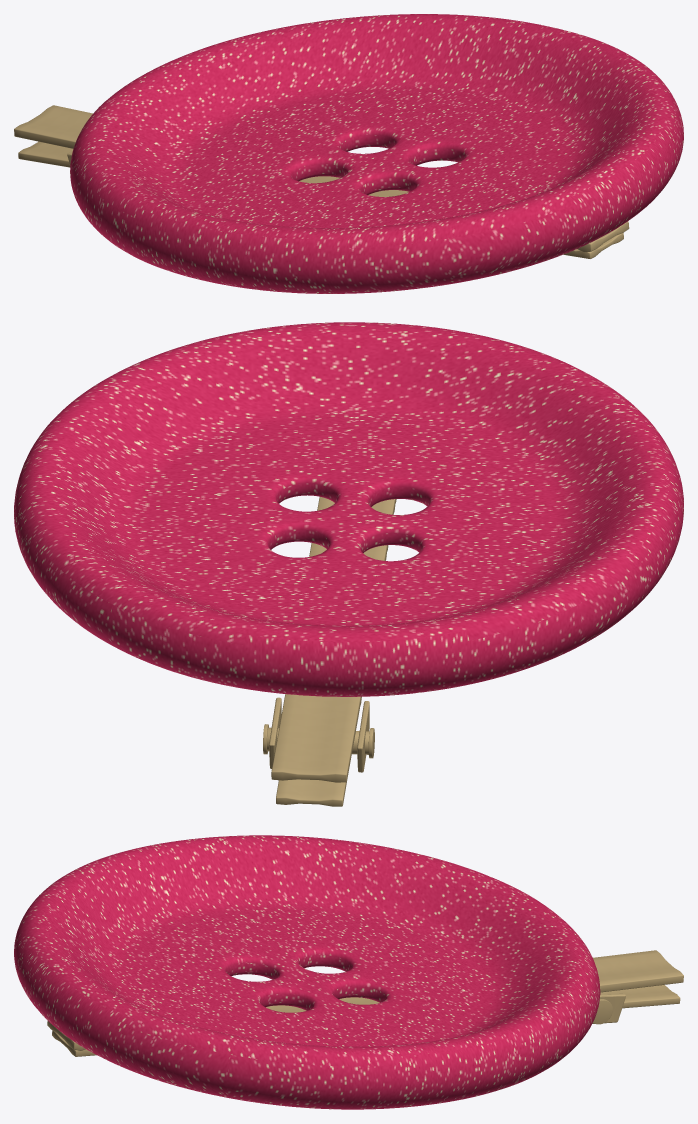
The model's file is HairClip_Glitter.glb.
3 renders of one model, top to bottom at view 1: azimuth 30°, elevation 25°; view 2: azimuth 150°, elevation 25°; view 3: azimuth 270°, elevation 25°, orthographic. The views are drawn at different scales.
Parts seen in each view (by area): view 1: HairClip_Glitter__Pink_Four_Hole_Button, HairClip_Glitter__Fixed_Serrated_Jaw, HairClip_Glitter__Moving_Jaw_Static_Pose; view 2: HairClip_Glitter__Pink_Four_Hole_Button, HairClip_Glitter__Fixed_Serrated_Jaw, HairClip_Glitter__Moving_Jaw_Static_Pose; view 3: HairClip_Glitter__Pink_Four_Hole_Button, HairClip_Glitter__Fixed_Serrated_Jaw, HairClip_Glitter__Moving_Jaw_Static_Pose.
Part boxes in pixels (x1,y1,x2,y2): HairClip_Glitter__Pink_Four_Hole_Button: (70,14,683,293); HairClip_Glitter__Fixed_Serrated_Jaw: (14,105,629,252); HairClip_Glitter__Moving_Jaw_Static_Pose: (18,141,623,258); HairClip_Glitter__Pink_Four_Hole_Button: (14,322,683,696); HairClip_Glitter__Fixed_Serrated_Jaw: (271,497,396,782); HairClip_Glitter__Moving_Jaw_Static_Pose: (276,779,346,806); HairClip_Glitter__Pink_Four_Hole_Button: (14,835,600,1109); HairClip_Glitter__Fixed_Serrated_Jaw: (47,950,683,1050); HairClip_Glitter__Moving_Jaw_Static_Pose: (52,985,680,1056).
Bounding box in the file's own units: 39.87 × 10.65 × 45.47.
2 materials, 2 textured.
